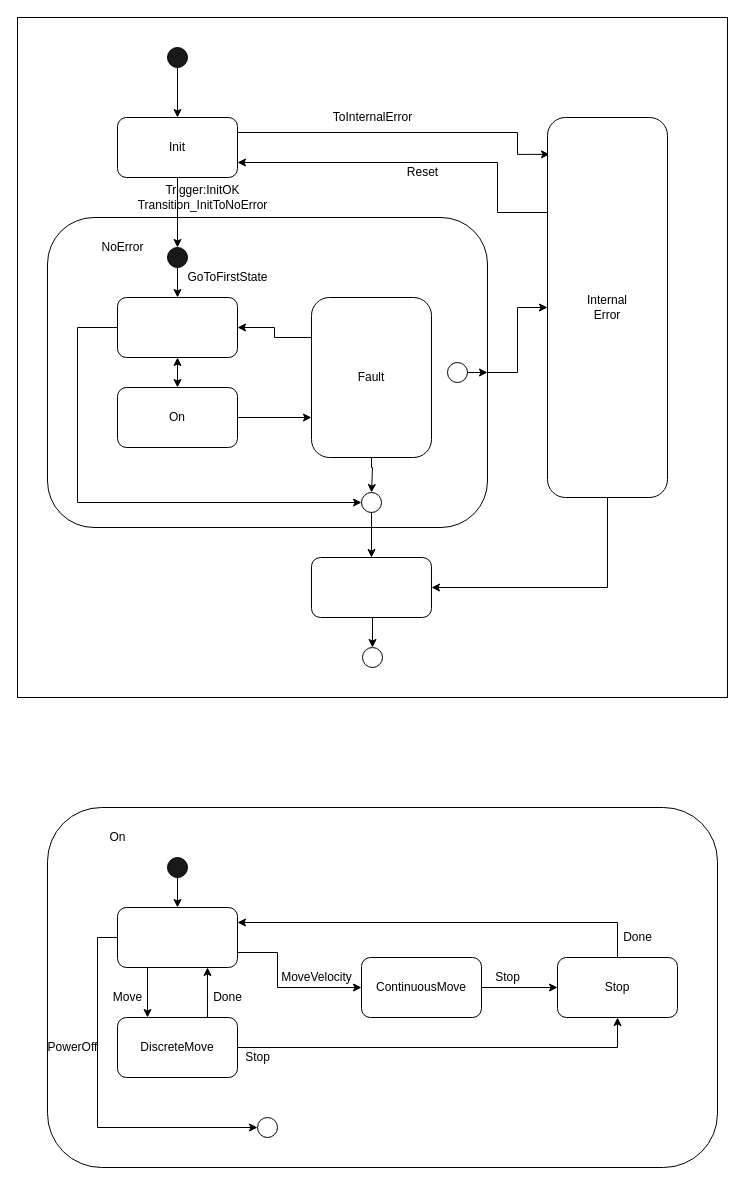
Some shapes in this 745 by 1185 pixel diagram are drawn without their labels. Here are the shapes that lost their labels. From the top down, the centre of each, then its label:
(177,327): Idle
(371,587): Deinit
(177,937): Enable
